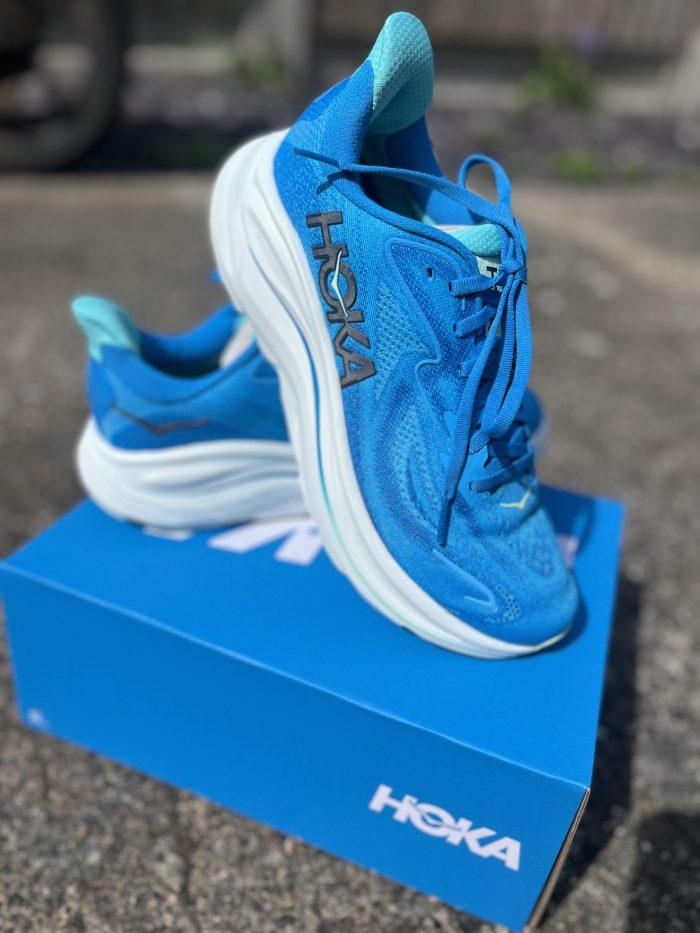hoka logo: (278, 186, 402, 445), (89, 386, 258, 466)
